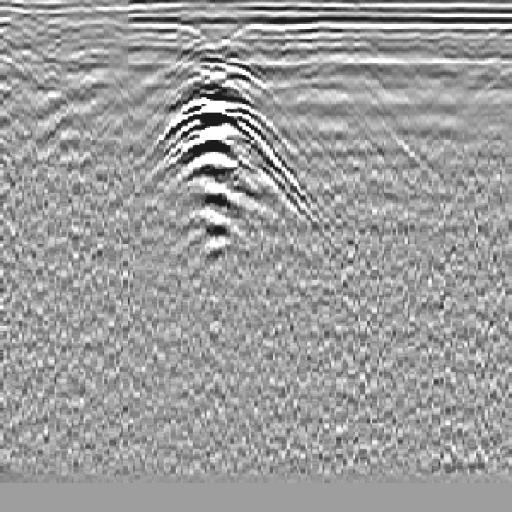metalic: (143, 85, 314, 246)
